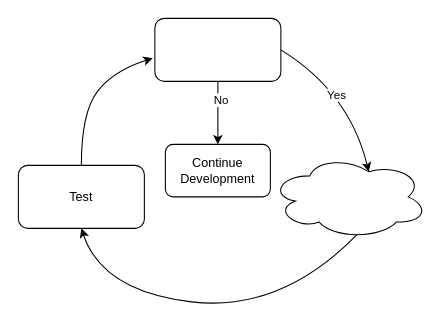
Some shapes in this 446 by 322 pixel diagram are drawn without their labels. The centre of each missing label's shape, as x and y in pixels:
Google/Research: (x=348, y=196)
Problem?: (x=217, y=49)
